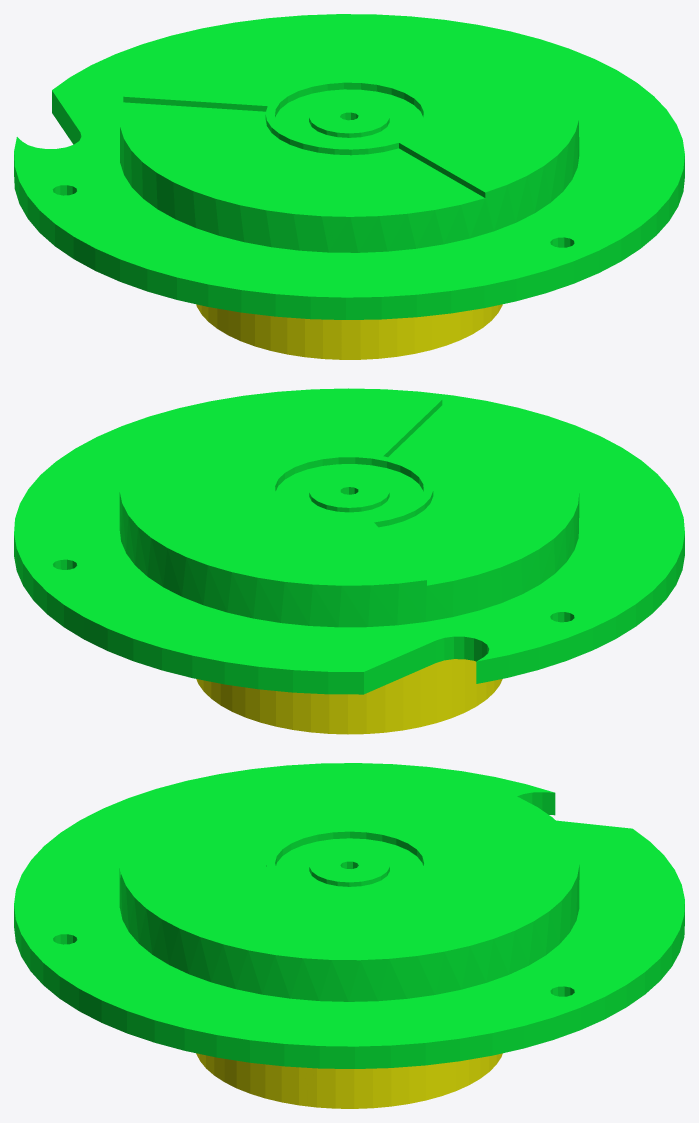
3 renders of one model, top to bottom at view 1: azimuth 30°, elevation 25°; view 2: azimuth 150°, elevation 25°; view 3: azimuth 270°, elevation 25°, orthographic.
Parts seen in each view (by area): view 1: Sólido1, Sólido1:1; view 2: Sólido1, Sólido1:1; view 3: Sólido1, Sólido1:1.
Part boxes in pixels (box(x1,y1,x2,y2)): Sólido1: box(14, 14, 684, 319); Sólido1:1: box(196, 304, 502, 359); Sólido1: box(14, 388, 684, 694); Sólido1:1: box(196, 659, 502, 734); Sólido1: box(14, 763, 684, 1068); Sólido1:1: box(196, 1053, 502, 1108).
Size of the model in its own units: 53.99 by 18 by 53.98.
